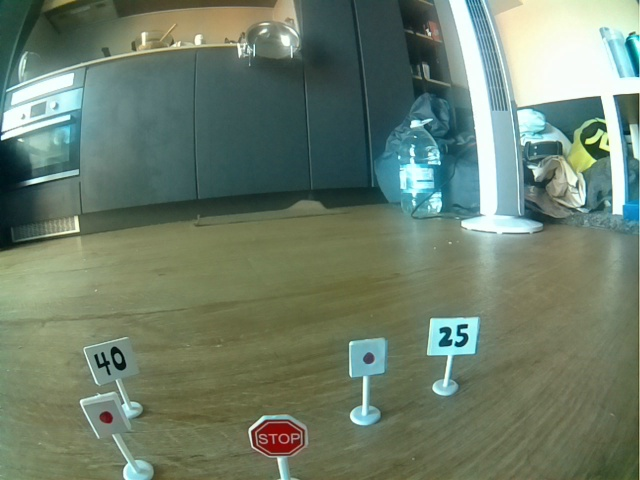red light: (352, 342, 384, 375), (93, 401, 118, 433)
speed 25: (433, 318, 475, 353)
speed 40: (89, 345, 133, 379)
stop: (250, 415, 306, 458)
